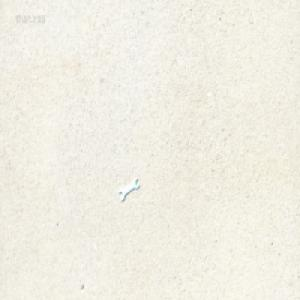Wrench: (118, 177, 140, 203)
